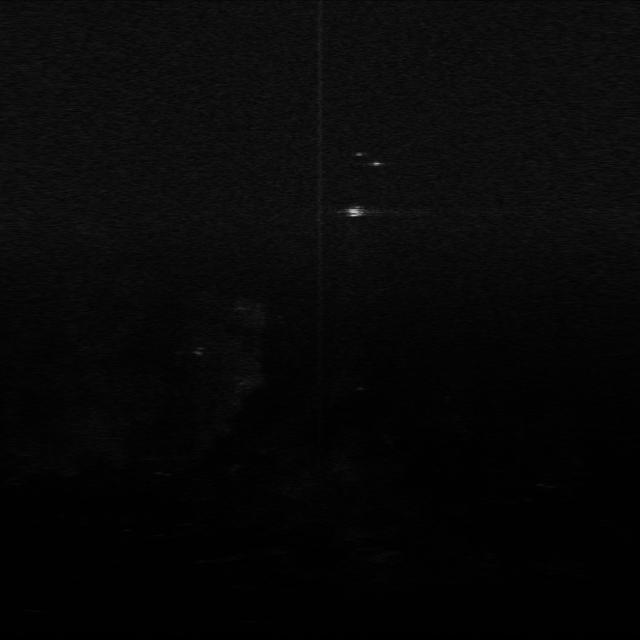rov: (342, 203, 367, 219)
